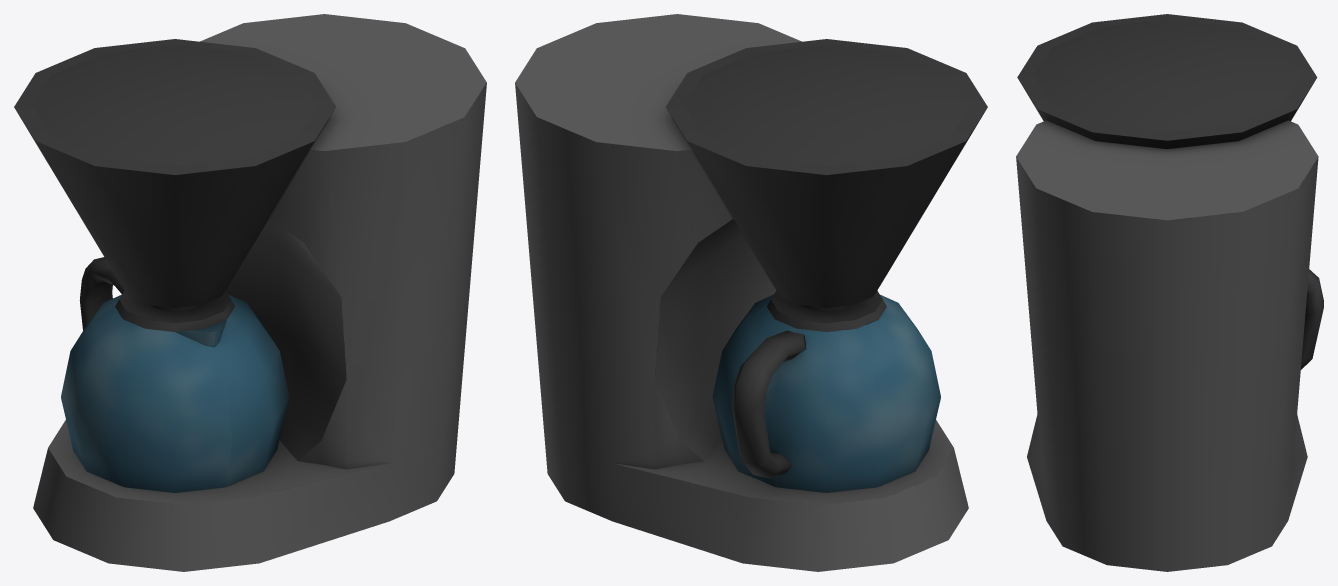
Rendered from Coffee.fbx.
The picture shows the model from 3 angles, left to right: view 1: azimuth 30°, elevation 25°; view 2: azimuth 150°, elevation 25°; view 3: azimuth 270°, elevation 25°; orthographic projection. The views are drawn at different scales.
Parts seen in each view (by area): view 1: Cylinder.002, Sphere; view 2: Cylinder.002, Sphere; view 3: Cylinder.002, Sphere.
Part boxes in pixels (x1,y1,x2,y2): Cylinder.002: (14, 14, 486, 571); Sphere: (61, 257, 289, 492); Cylinder.002: (515, 14, 987, 571); Sphere: (712, 290, 940, 492); Cylinder.002: (1016, 14, 1318, 571); Sphere: (1301, 269, 1323, 369).
Bounding box in the file's own units: 223 × 208 × 149.
Materials: 1 (1 with a texture image).
